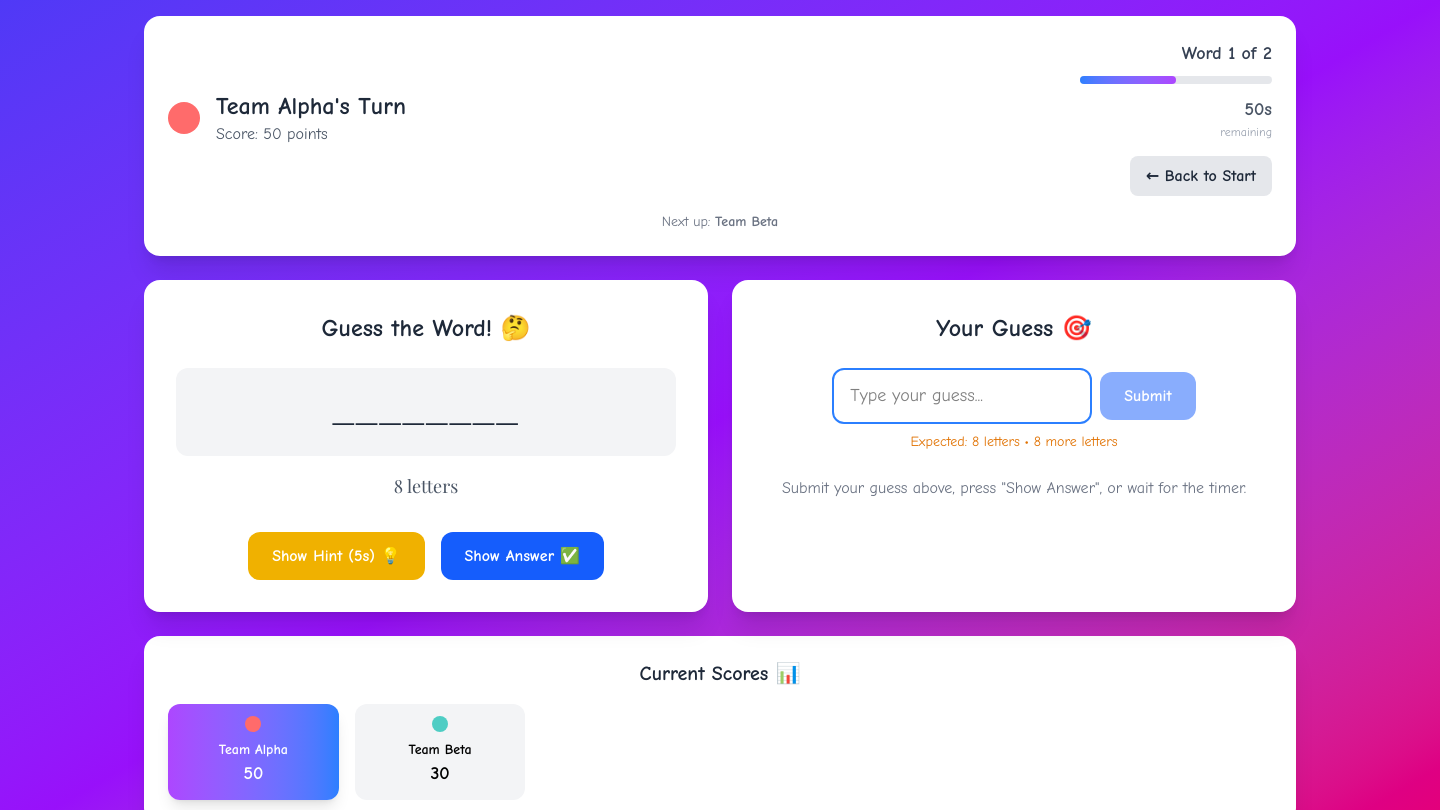
Scenario: GameScreen › reveals answer when reveal button is clicked
Click the button "Show Answer ✅".
click(522, 556)  # box x1=441 y1=532 x2=604 y2=580
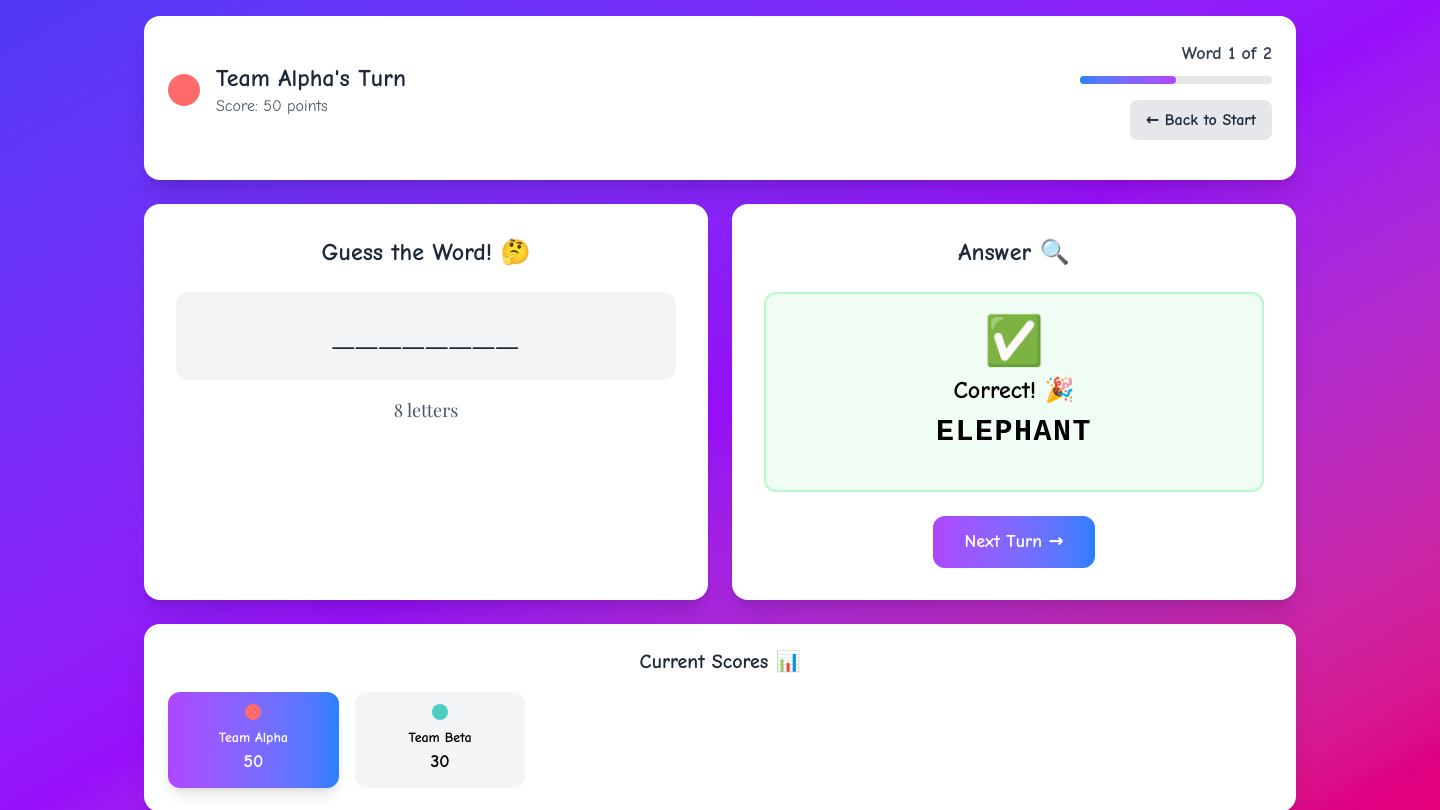
Expected: the heading "Answer 🔍" is shown, x1=958 y1=238 x2=1070 y2=266
